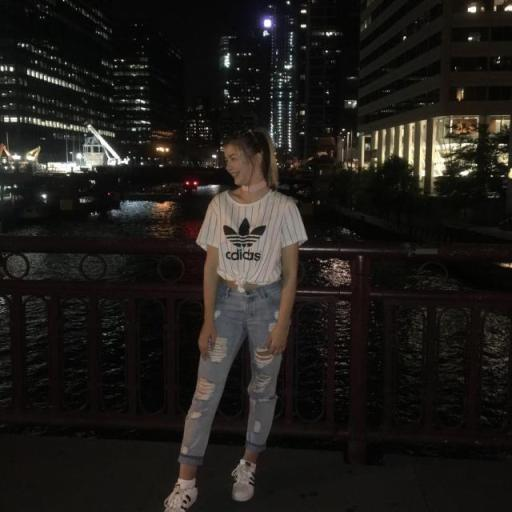Adidas: (220, 216, 268, 262)
